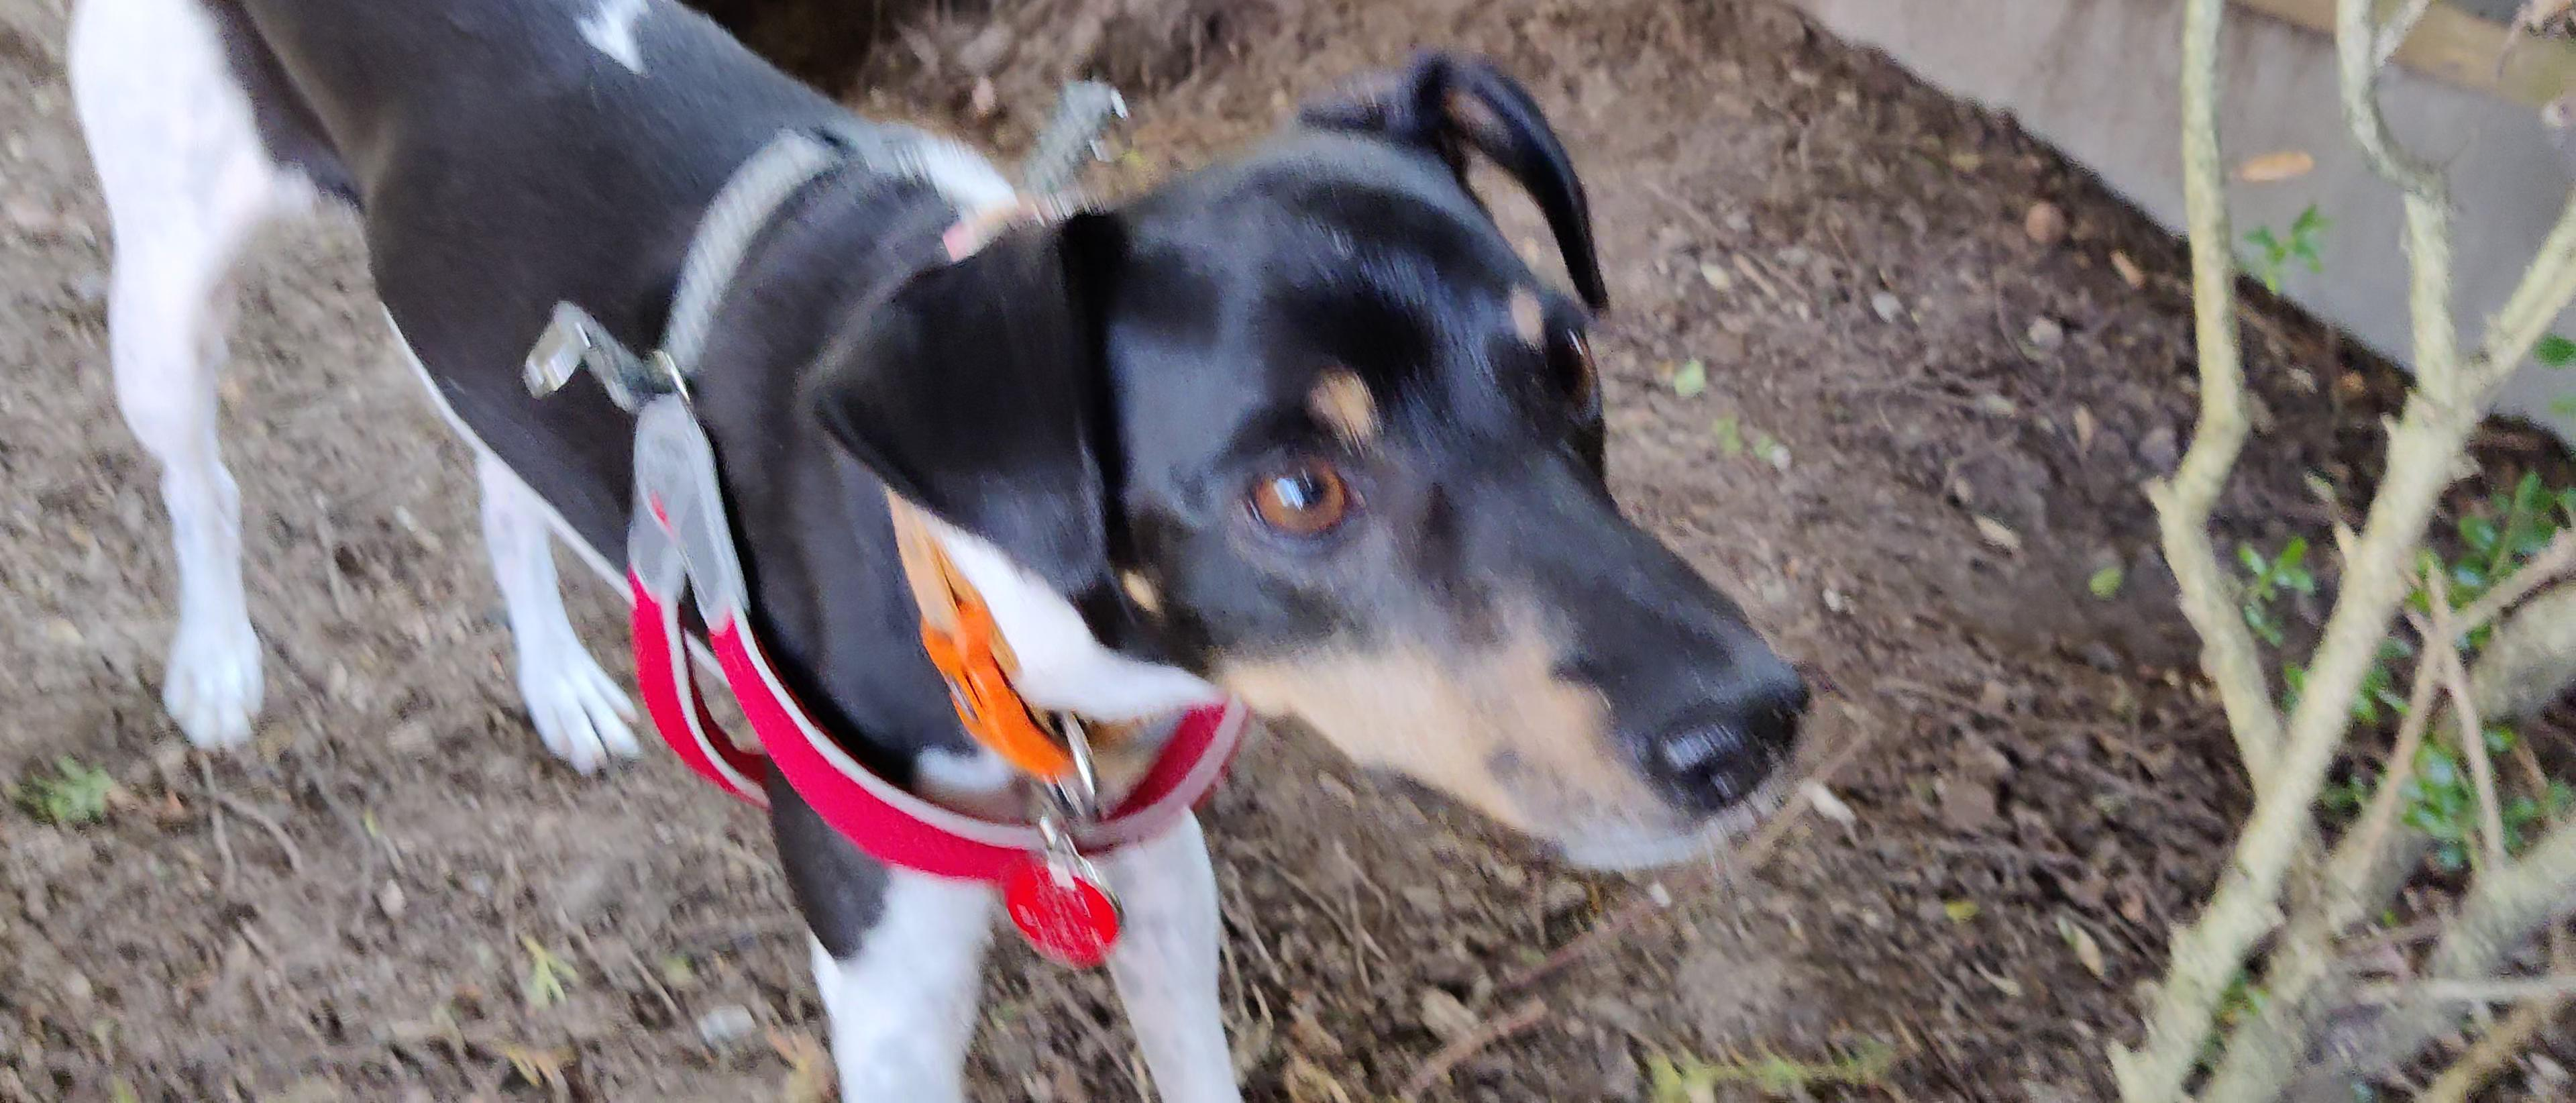Dog: (49, 0, 1840, 1103)
